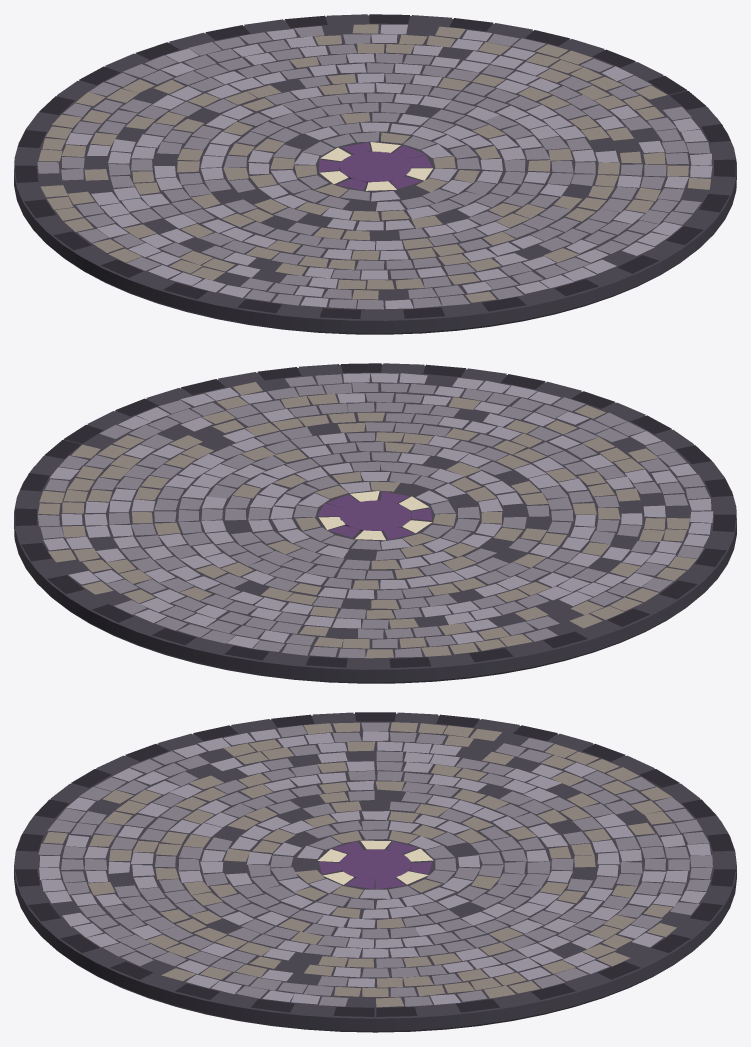
The model's file is arena_floor_disc.glb.
The picture shows the model from 3 angles, top to bottom: view 1: azimuth 30°, elevation 25°; view 2: azimuth 150°, elevation 25°; view 3: azimuth 270°, elevation 25°; orthographic projection.
Parts seen in each view (by area): view 1: arena_floor_disc; view 2: arena_floor_disc; view 3: arena_floor_disc.
Boxes of the visible parts, x1=… form: arena_floor_disc: x1=14, y1=14, x2=736, y2=334; arena_floor_disc: x1=14, y1=363, x2=736, y2=683; arena_floor_disc: x1=14, y1=712, x2=736, y2=1032.
Bounding box in the file's own units: 20 × 0.5 × 20.
